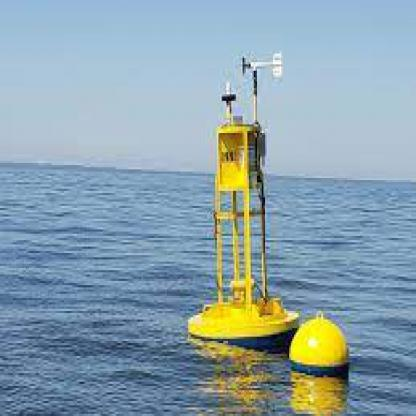buoy: (185, 45, 305, 360)
